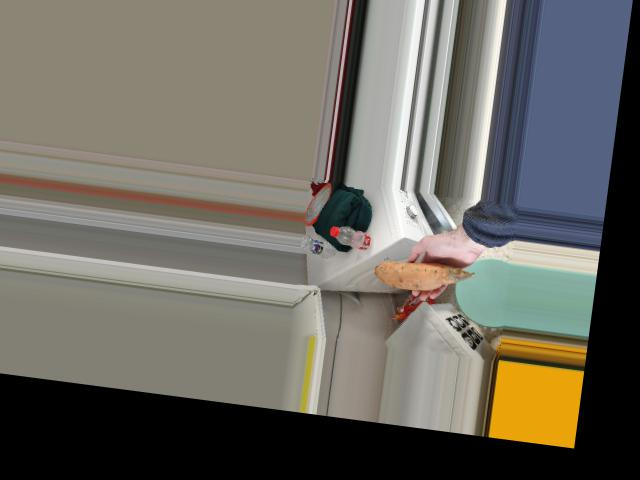sweet_potato: (381, 254, 470, 291)
